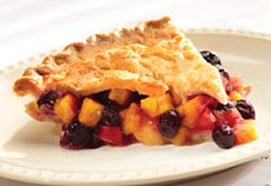soup: (10, 16, 245, 150)
